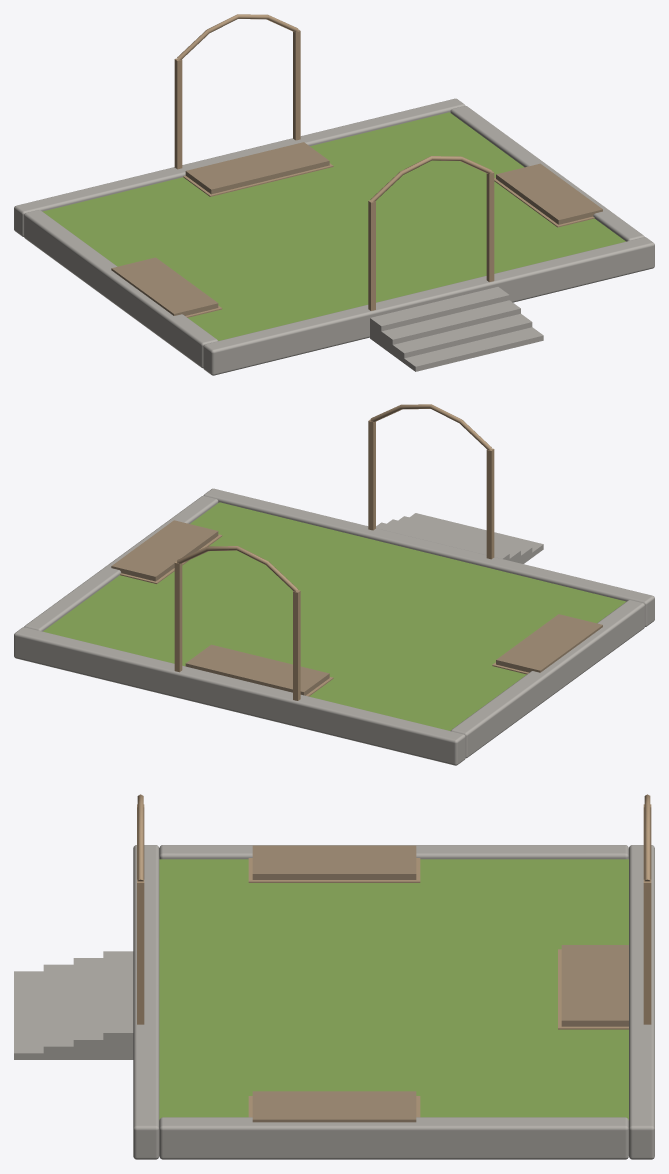
Rendered from garden_bed.glb.
The picture shows the model from 3 angles, top to bottom: view 1: azimuth 30°, elevation 25°; view 2: azimuth 150°, elevation 25°; view 3: azimuth 270°, elevation 25°; orthographic projection. The views are drawn at different scales.
Visible parts, largest first — view 1: GardenBed; view 2: GardenBed; view 3: GardenBed.
Part boxes in pixels (left/top/right/bottom): GardenBed: left=14, top=14, right=654, bottom=375; GardenBed: left=14, top=404, right=654, bottom=765; GardenBed: left=14, top=794, right=654, bottom=1159.
Size of the model in its own units: 9 by 3.19 by 8.6.
